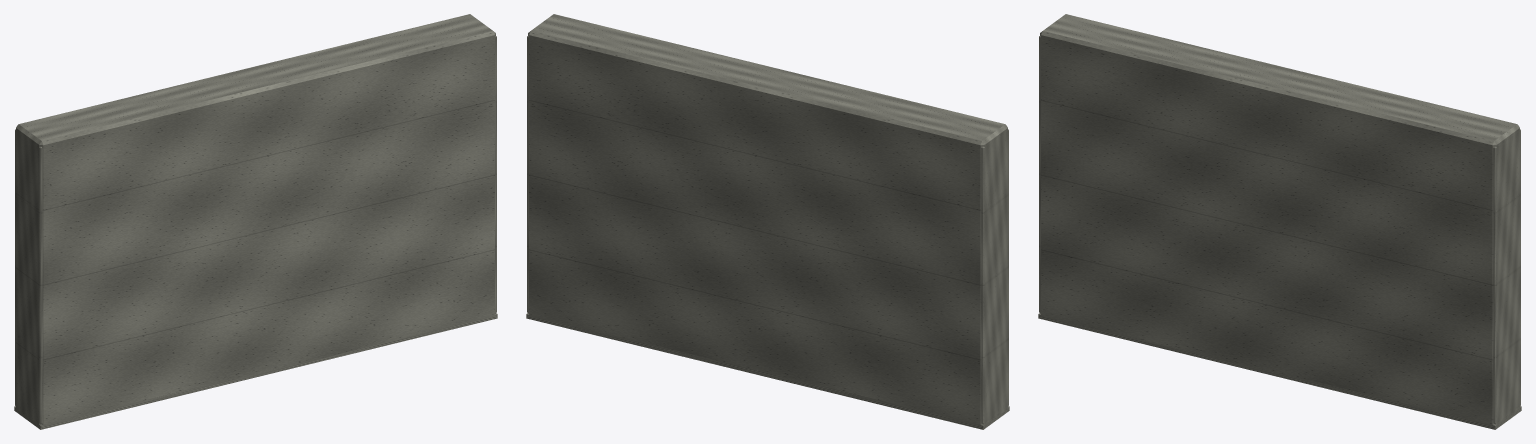
File: concrete_wall.glb
3 renders of one model, left to right at view 1: azimuth 30°, elevation 25°; view 2: azimuth 150°, elevation 25°; view 3: azimuth 330°, elevation 25°, orthographic.
Visible parts, largest first — view 1: concrete_wall; view 2: concrete_wall; view 3: concrete_wall.
Boxes of the visible parts, x1,y1,x2,y2 form: concrete_wall: [14, 14, 497, 429]; concrete_wall: [526, 14, 1009, 429]; concrete_wall: [1038, 14, 1521, 429].
Size of the model in its own units: 4 by 2.4 by 0.4.
1 material, 1 textured.
